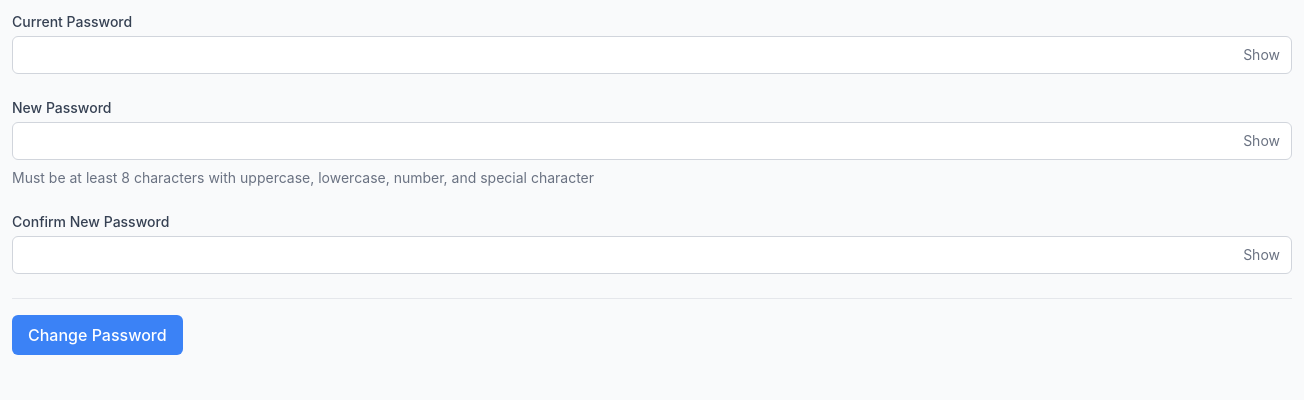
Scenario: ChangePasswordForm - Security › enforces strong password policy
Type "OldP@ssword123" into the password field labelled "Current Password" at (652, 55), box 12,36 -> 1292,74
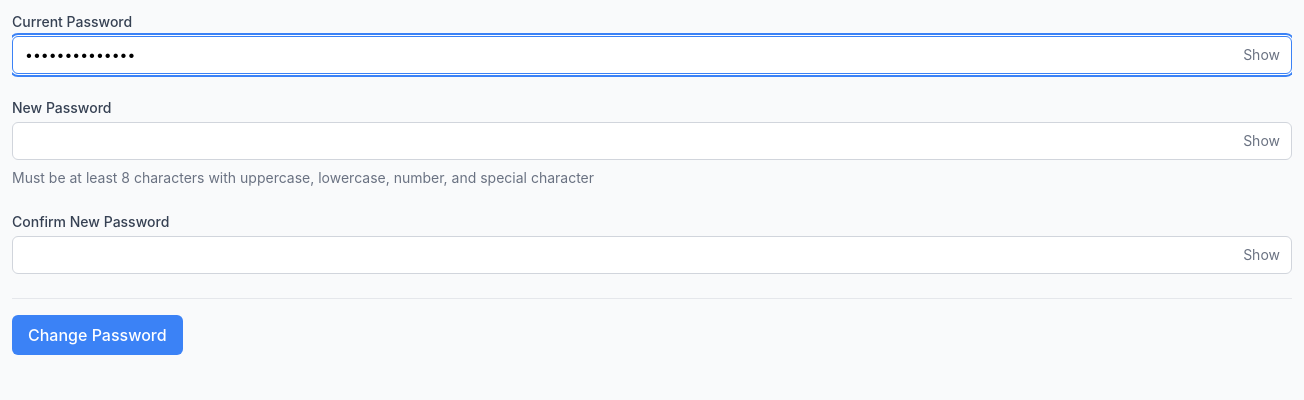
Type "weakpassword" into the password field labelled "New Password" at (652, 141), box 12,122 -> 1292,160
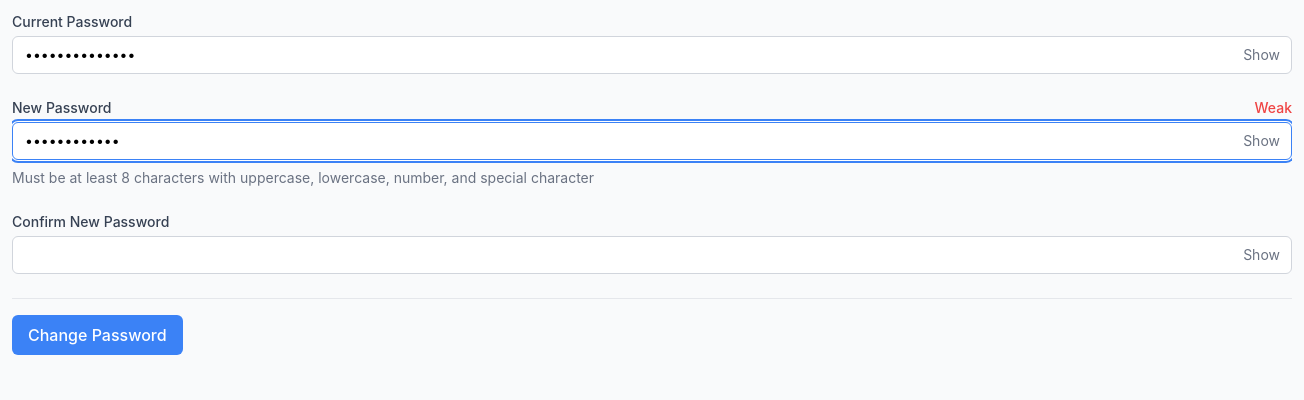
Type "weakpassword" into the password field labelled "Confirm New Password" at (652, 255), box 12,236 -> 1292,274
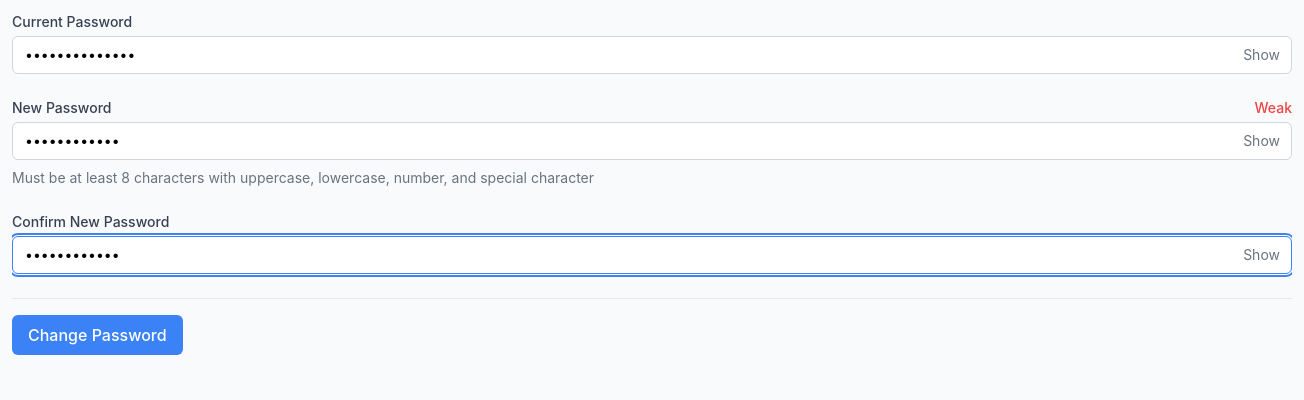
Click the button "Change Password" at (97, 335), box 12,315 -> 183,355
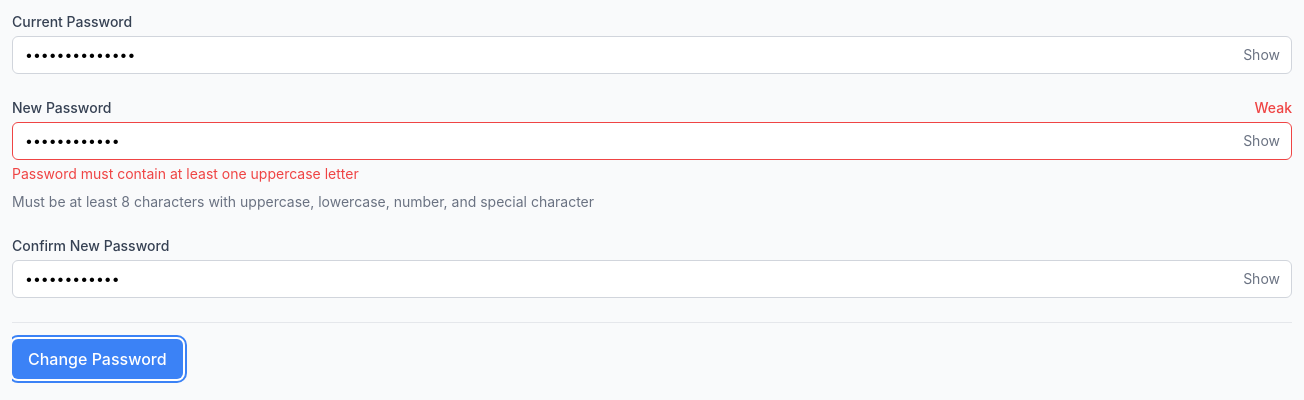
Now the text "Password must contain at least one uppercase letter" is shown, box 12,165 -> 359,182
